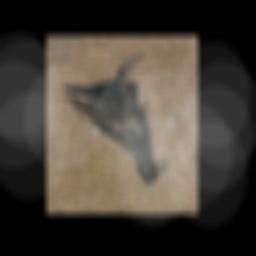Crow: (63, 54, 166, 186)
